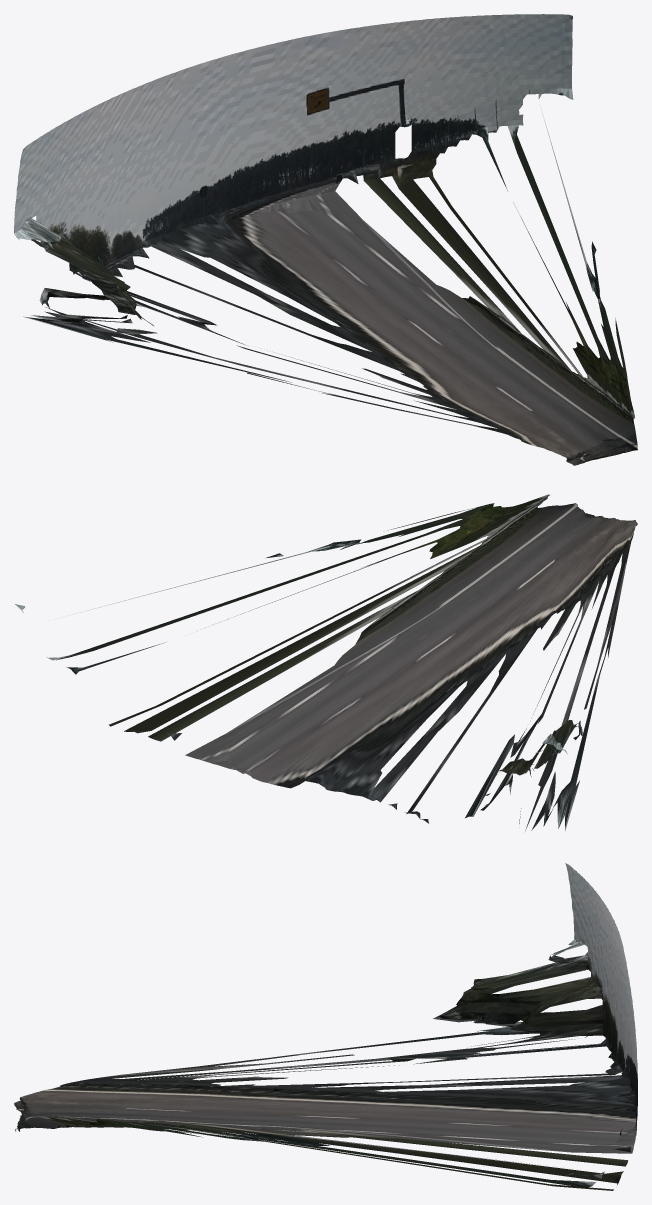
The picture shows the model from 3 angles, top to bottom: view 1: azimuth 30°, elevation 25°; view 2: azimuth 150°, elevation 25°; view 3: azimuth 270°, elevation 25°; orthographic projection. The views are drawn at different scales.
Visible parts, largest first — view 1: defaultobject; view 2: defaultobject; view 3: defaultobject.
Part boxes in pixels (x1,y1,x2,y2): defaultobject: [14, 14, 637, 465]; defaultobject: [15, 494, 637, 831]; defaultobject: [14, 863, 637, 1190].
Bounding box in the file's own units: 41.05 × 13.29 × 44.51.
1 material, 1 textured.
